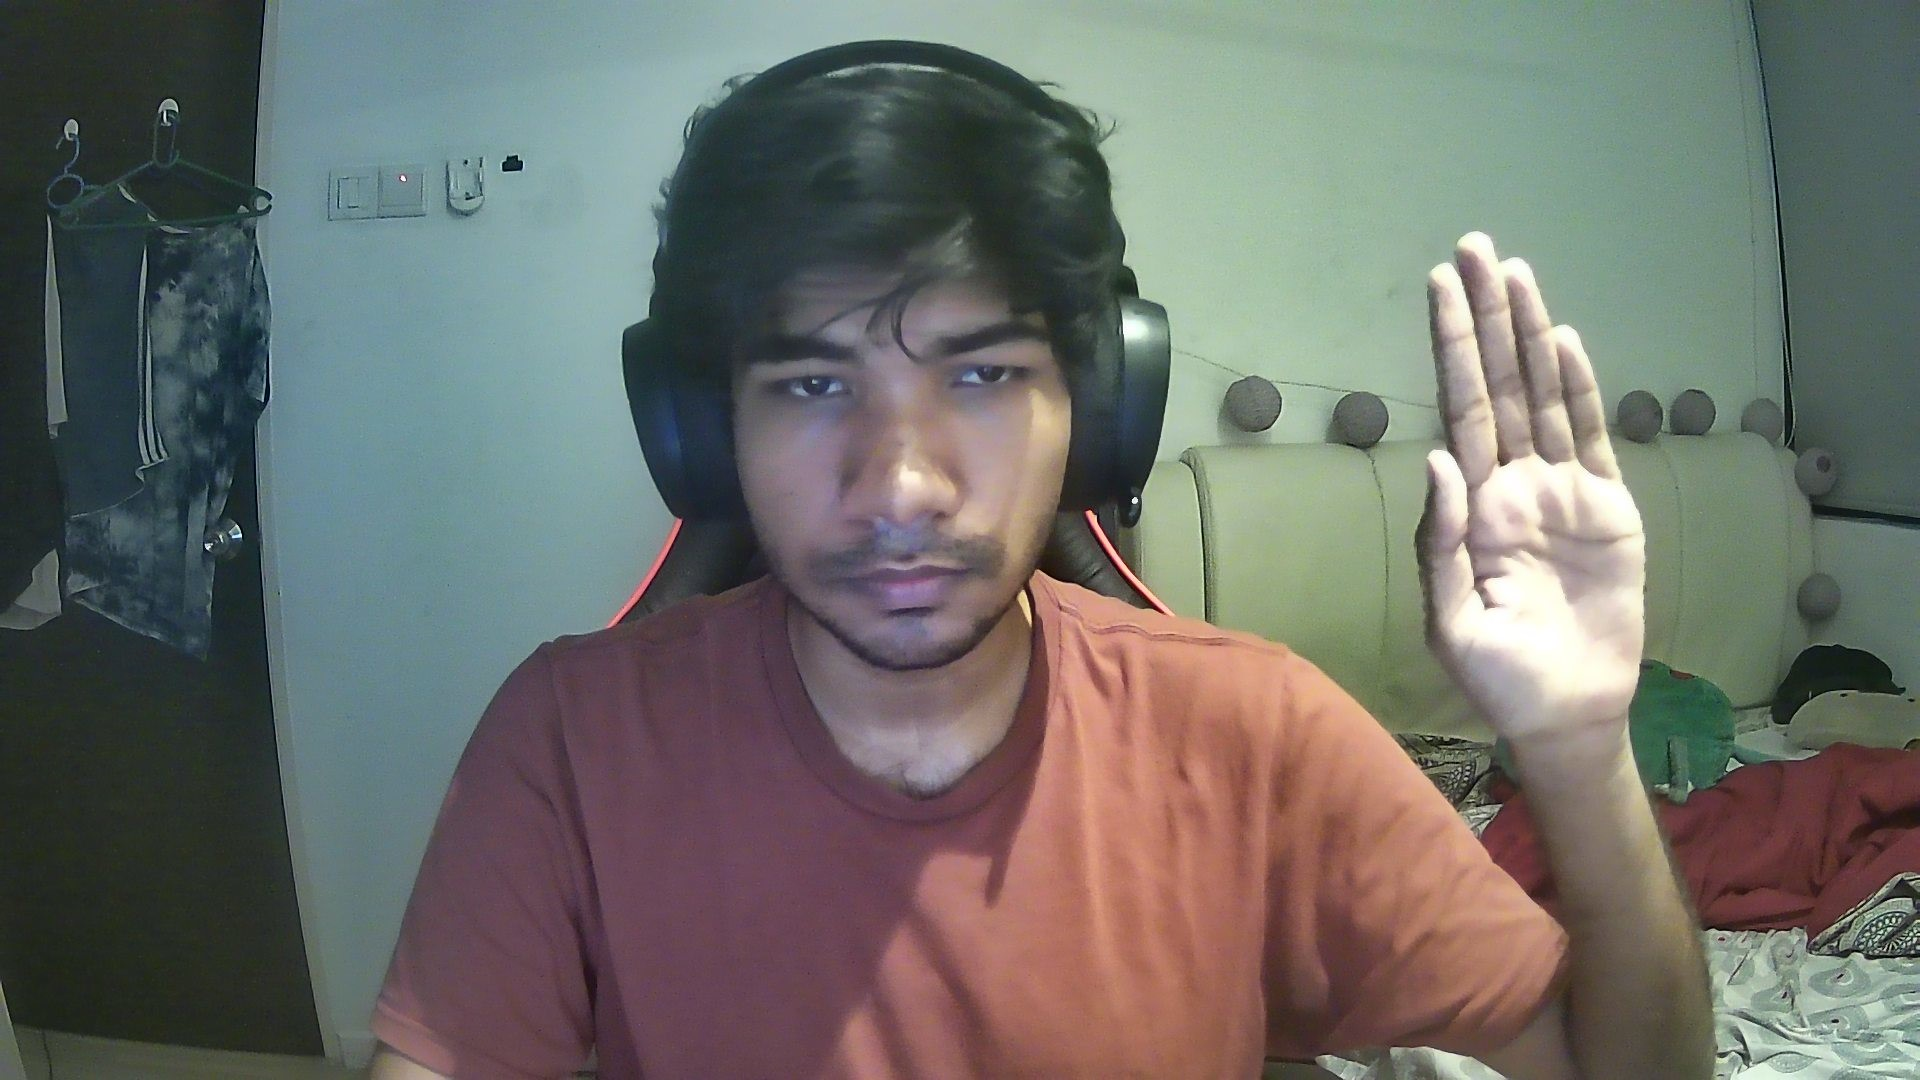Hello: (1404, 222, 1669, 756)
